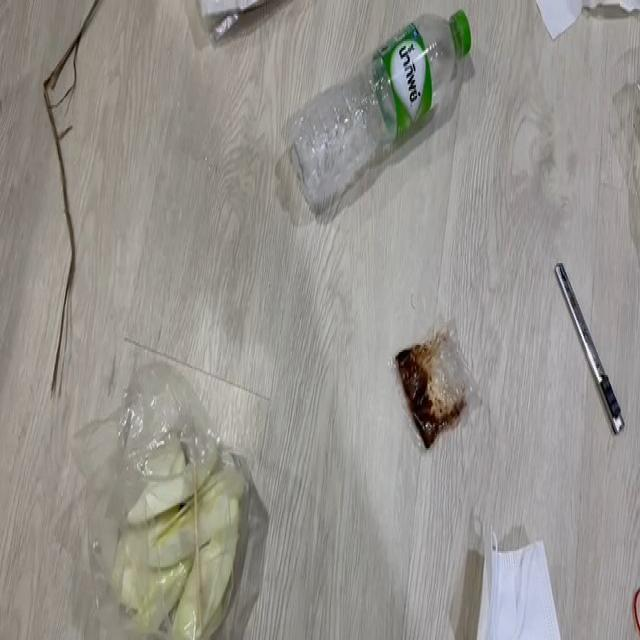Anorganik: (278, 0, 476, 204), (544, 252, 640, 432), (624, 580, 640, 640)
B3: (110, 384, 255, 634), (35, 0, 93, 389), (454, 491, 589, 640), (382, 316, 484, 449)
